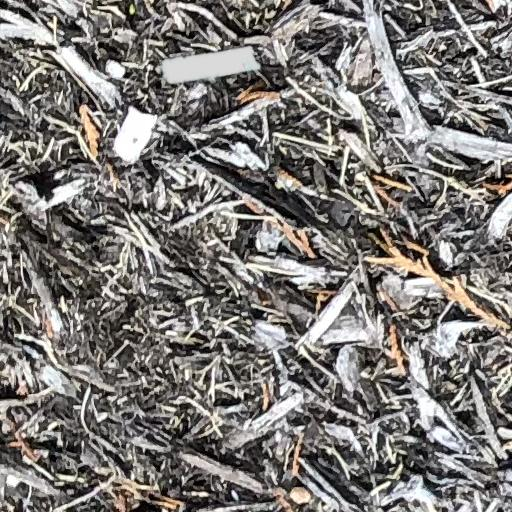smoke: (163, 47, 260, 83)
